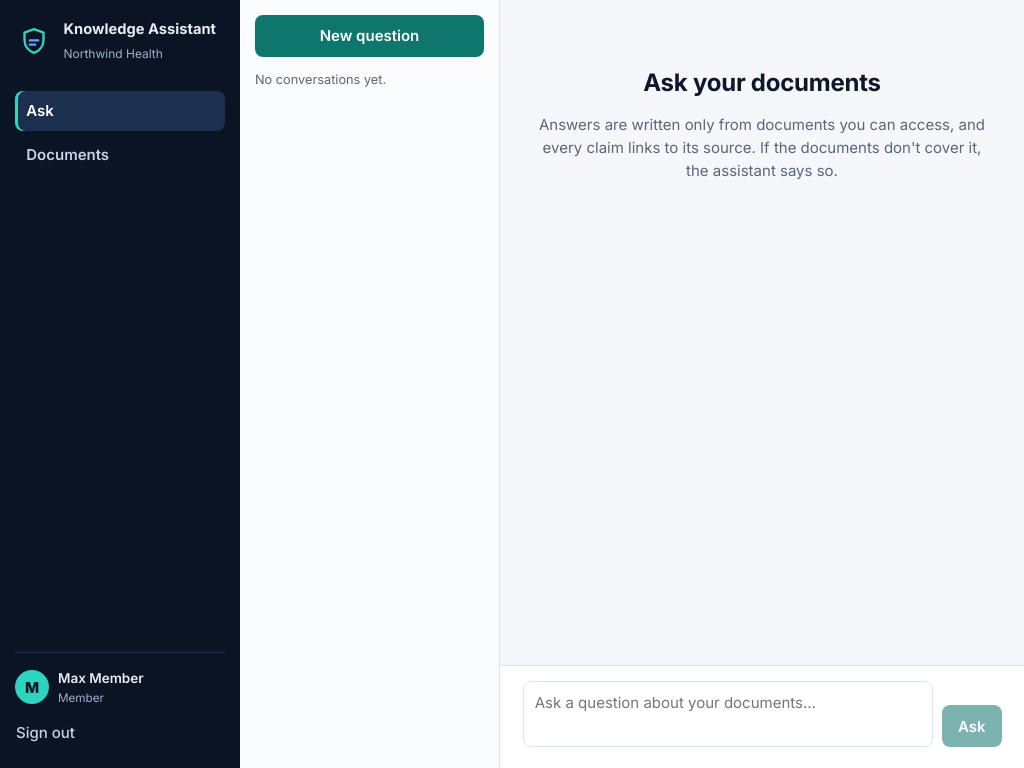
Test case: chat › marks answers the documents do not support
Type "What is the parking policy?" into the text box named "Your question". click: (728, 714)
box: [522,680,933,747]
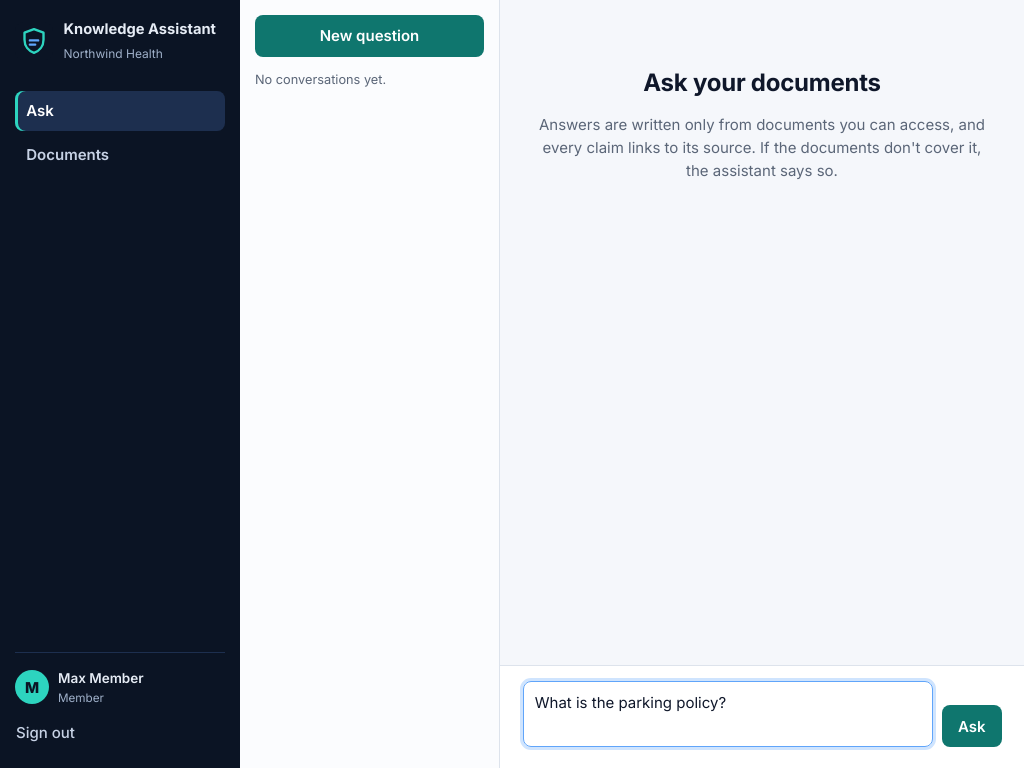
Click the button "Ask". click: (972, 726)
box: [942,705,1002,747]
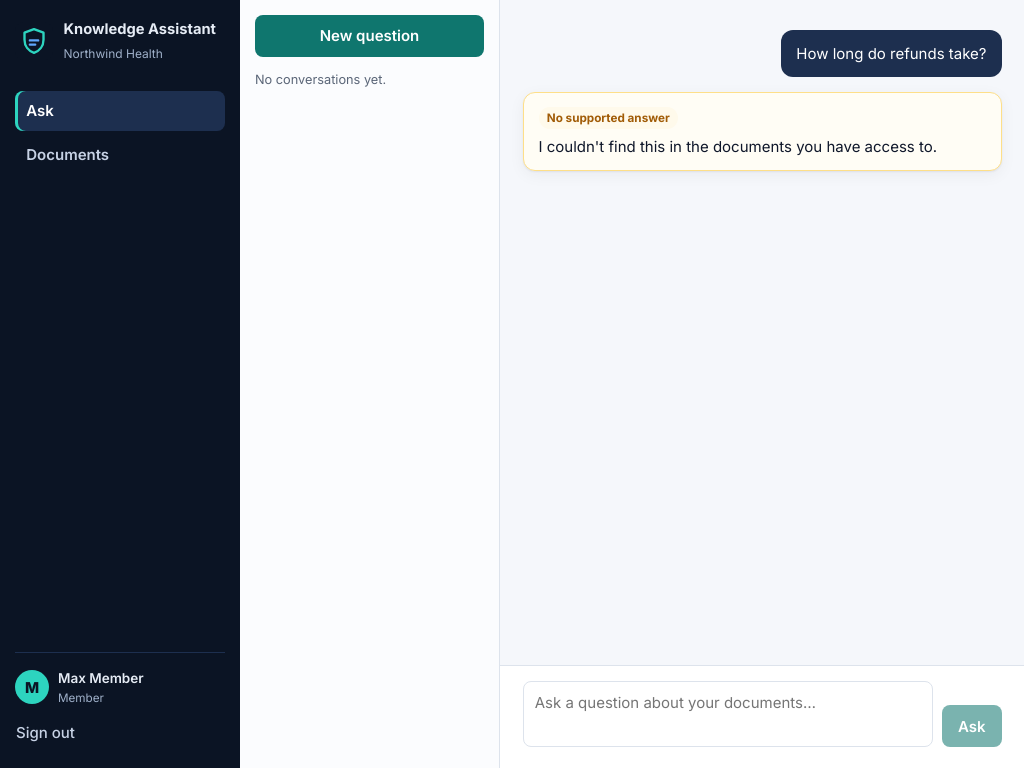
expect the element with test id "answer" shows "No supported answer": met, box [547,111,670,125]
